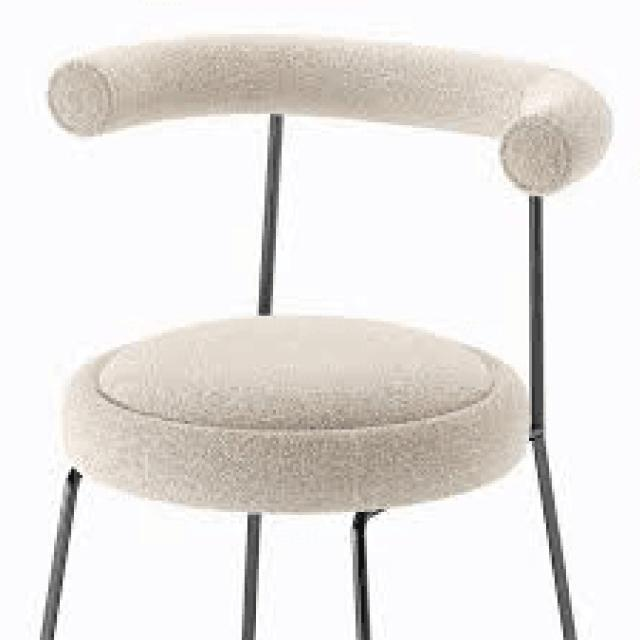chair: (33, 24, 614, 640), (2, 0, 612, 529)
